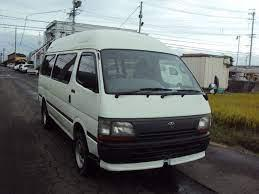Van: (39, 31, 217, 172)
